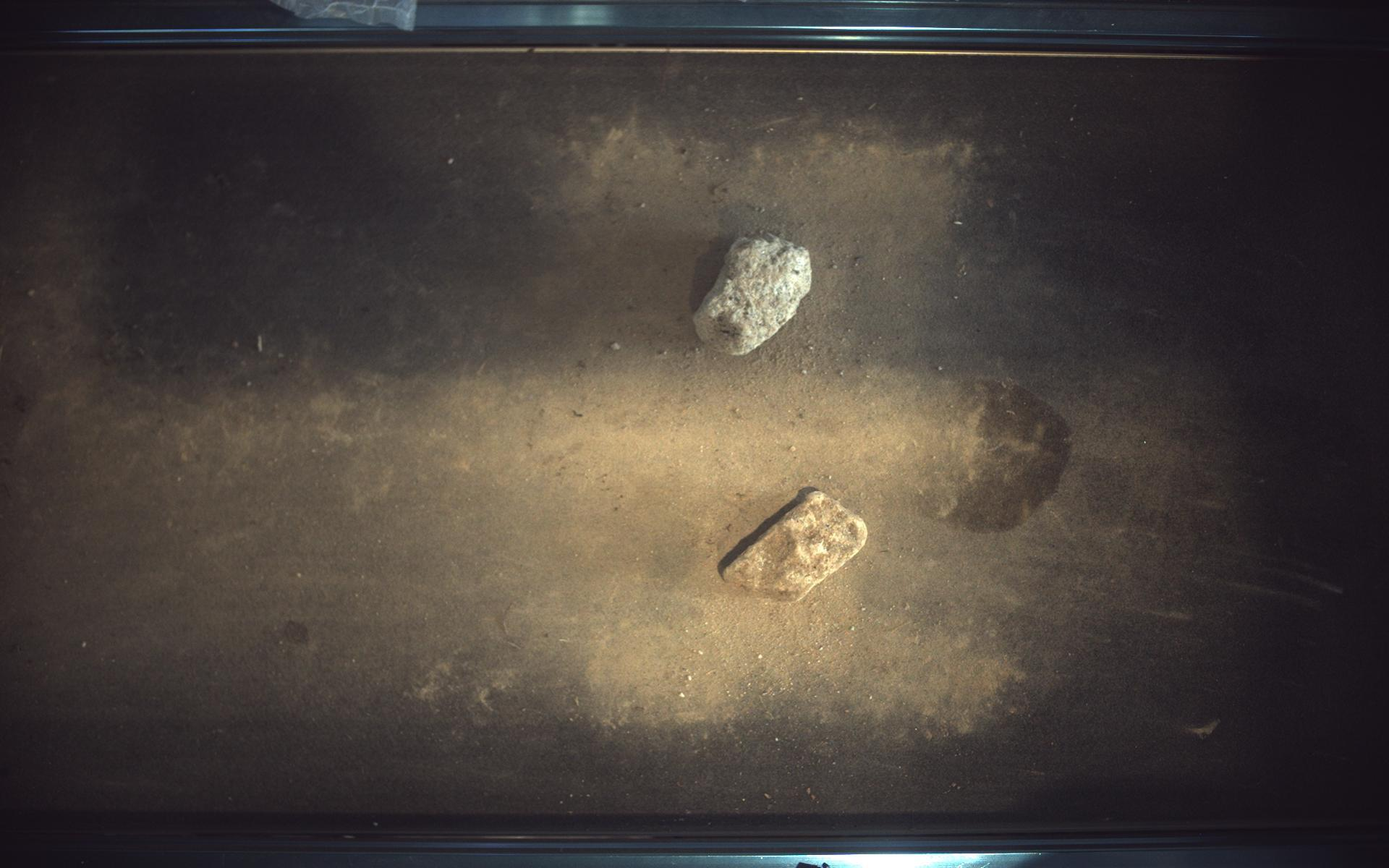stone: (724, 491, 869, 601), (694, 231, 813, 355)
